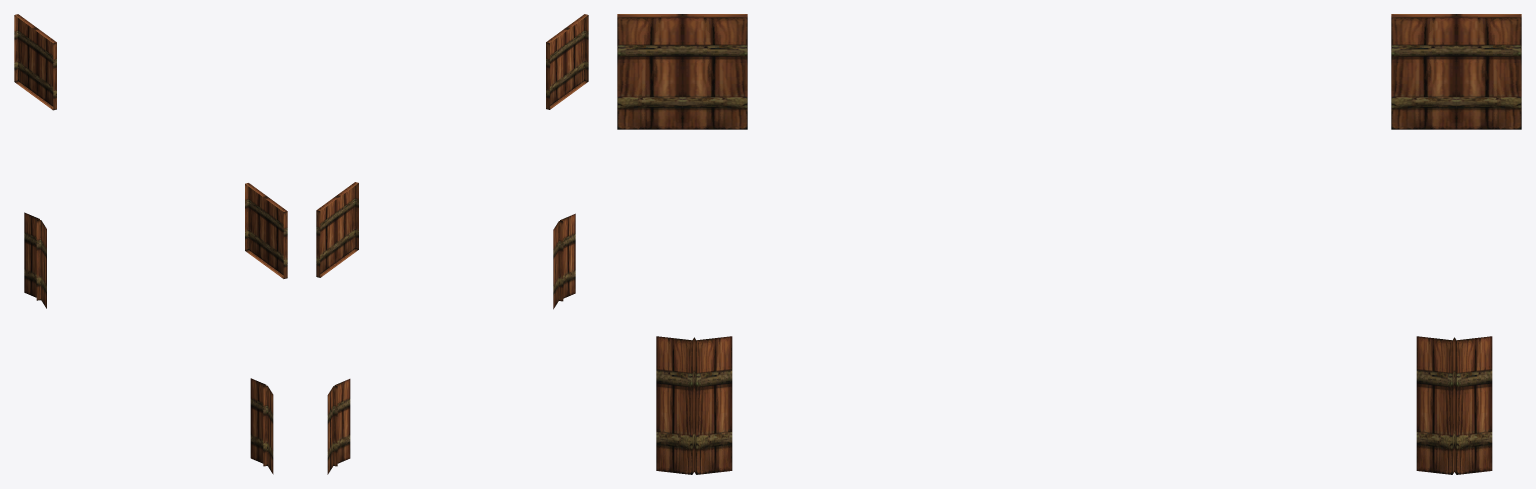
The model's file is LAKETOWN_EXTERIOR_PS_LT_WINDOWS55.fbx.
3 renders of one model, left to right at view 1: azimuth 30°, elevation 25°; view 2: azimuth 150°, elevation 25°; view 3: azimuth 270°, elevation 25°, orthographic. The views are drawn at different scales.
Visible parts, largest first — view 1: LAKETOWN_EXTERIOR_PS_LT_WINDOWS55; view 2: LAKETOWN_EXTERIOR_PS_LT_WINDOWS55; view 3: LAKETOWN_EXTERIOR_PS_LT_WINDOWS55.
Boxes of the visible parts, <box> form: LAKETOWN_EXTERIOR_PS_LT_WINDOWS55: <box>14,14,287,474</box>; LAKETOWN_EXTERIOR_PS_LT_WINDOWS55: <box>316,14,588,474</box>; LAKETOWN_EXTERIOR_PS_LT_WINDOWS55: <box>617,14,1521,474</box>.
Bounding box in the file's own units: 1206 × 50223 × 90276.
Materials: 1 (1 with a texture image).
